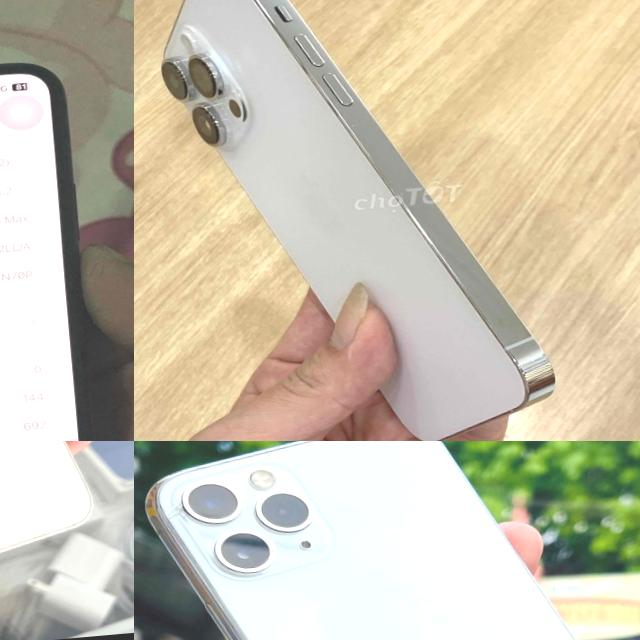gen_11: (136, 441, 640, 640), (0, 45, 118, 441)
gen_12_13: (0, 441, 104, 587)
gen_14: (145, 0, 561, 441)
